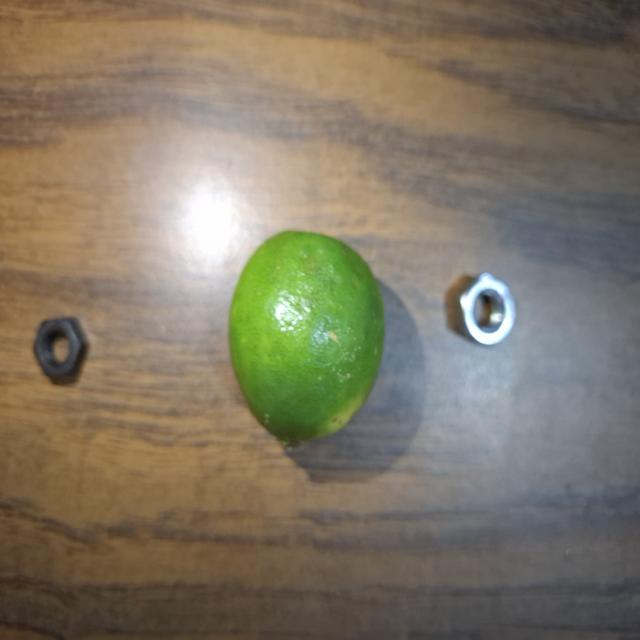limon: (226, 223, 386, 450)
milimetrico: (25, 307, 99, 389)
tuerca: (454, 260, 528, 371)
